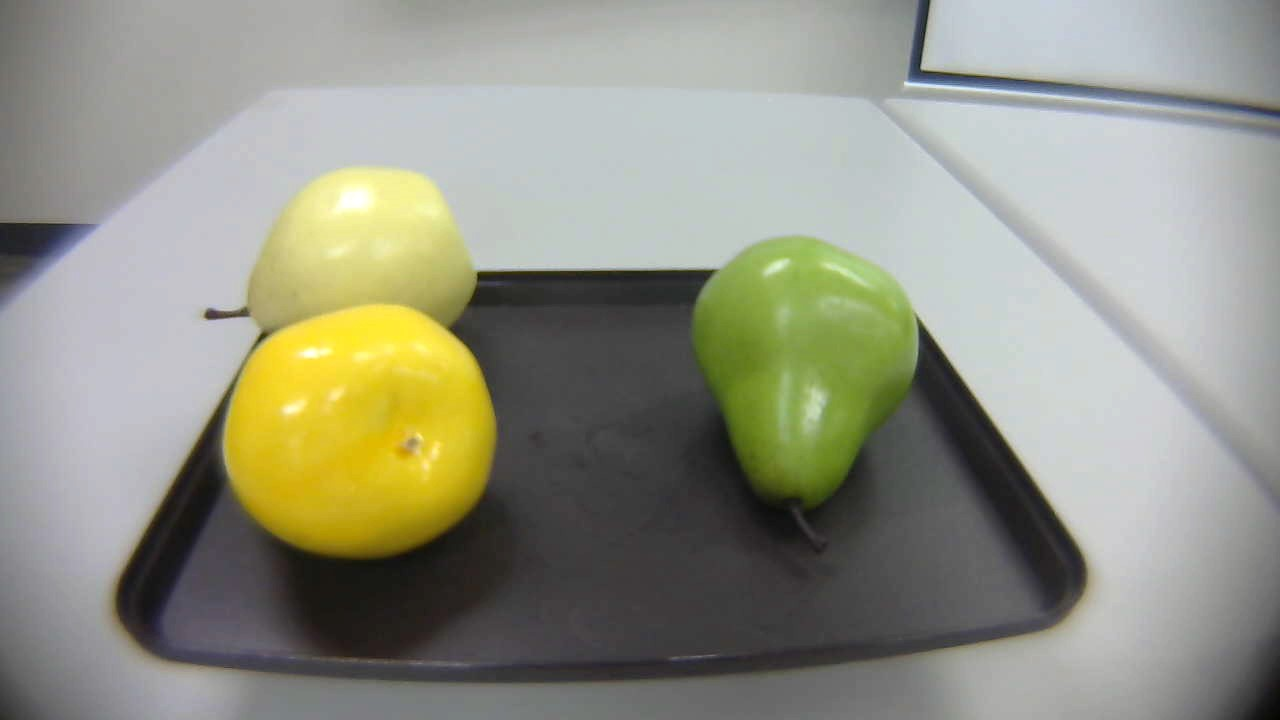green pear: (689, 227, 926, 548)
western pear: (188, 166, 493, 358)
yellow pear: (199, 295, 504, 561)
